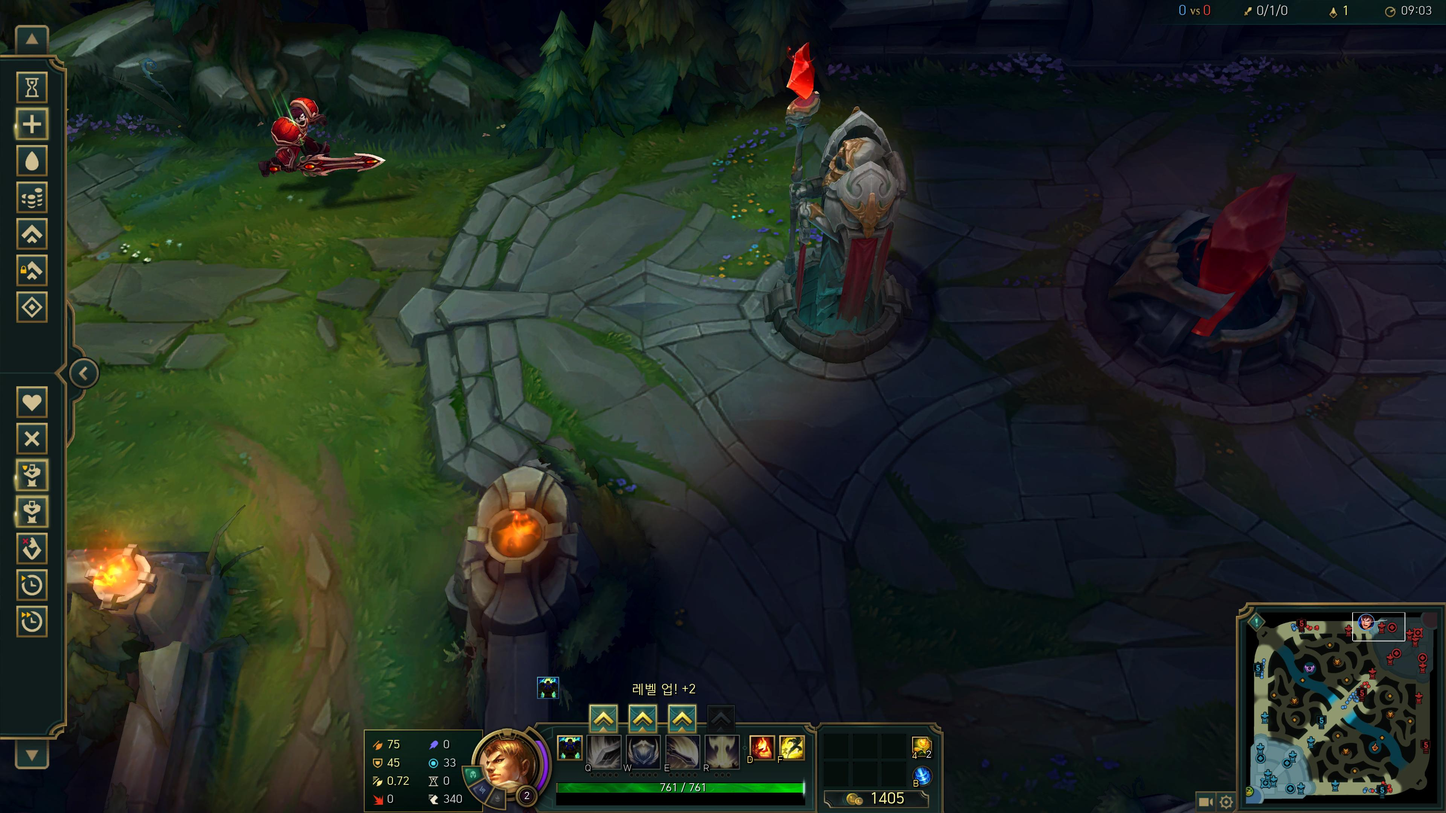enemy-inhibitor: (1065, 171, 1364, 422)
enemy-tower: (766, 106, 909, 362)
